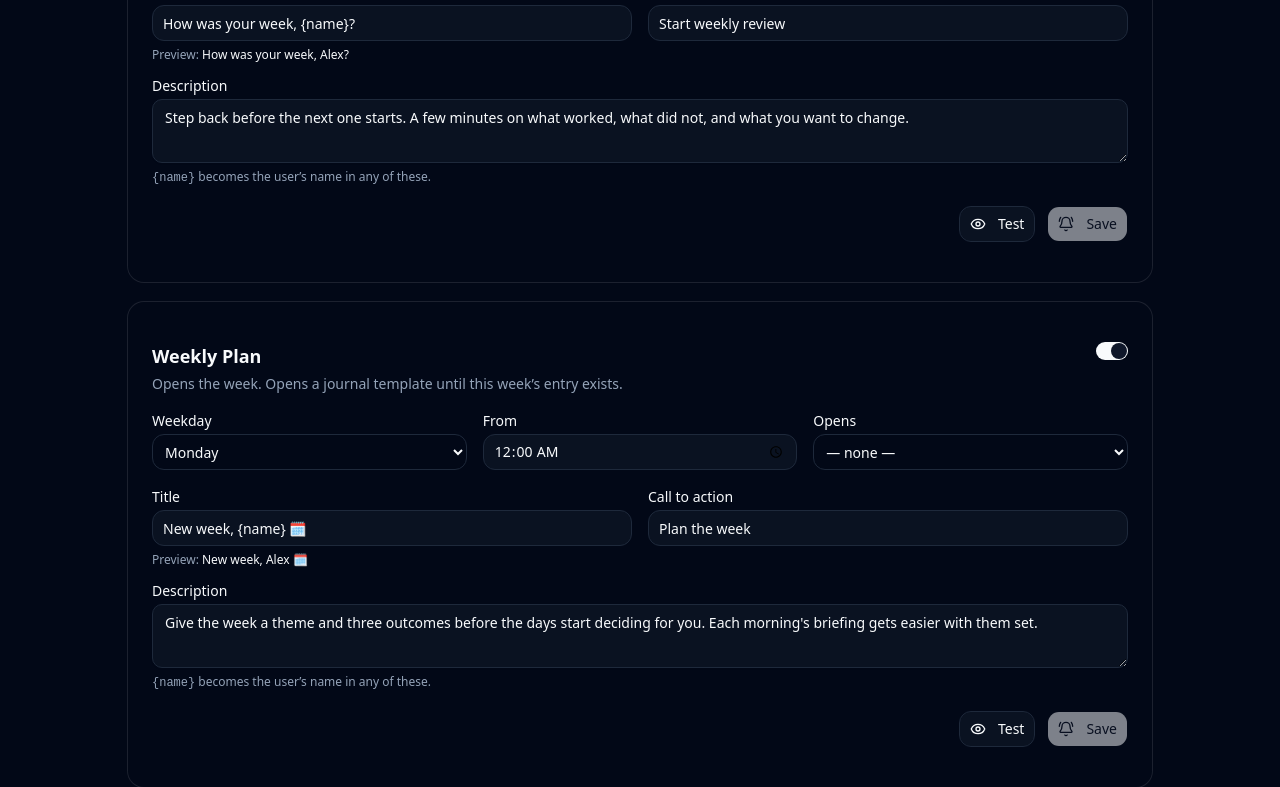
it: RitualsHub preview › opens the real prompt for the ritual whose Test button was pressed
The width and height of the screenshot is (1280, 787).
(page scrolled)
What coordinates should you click on to do the following:
click the button named "preview"
I would click on:
 (997, 729)
Its box is [959,711,1036,747].
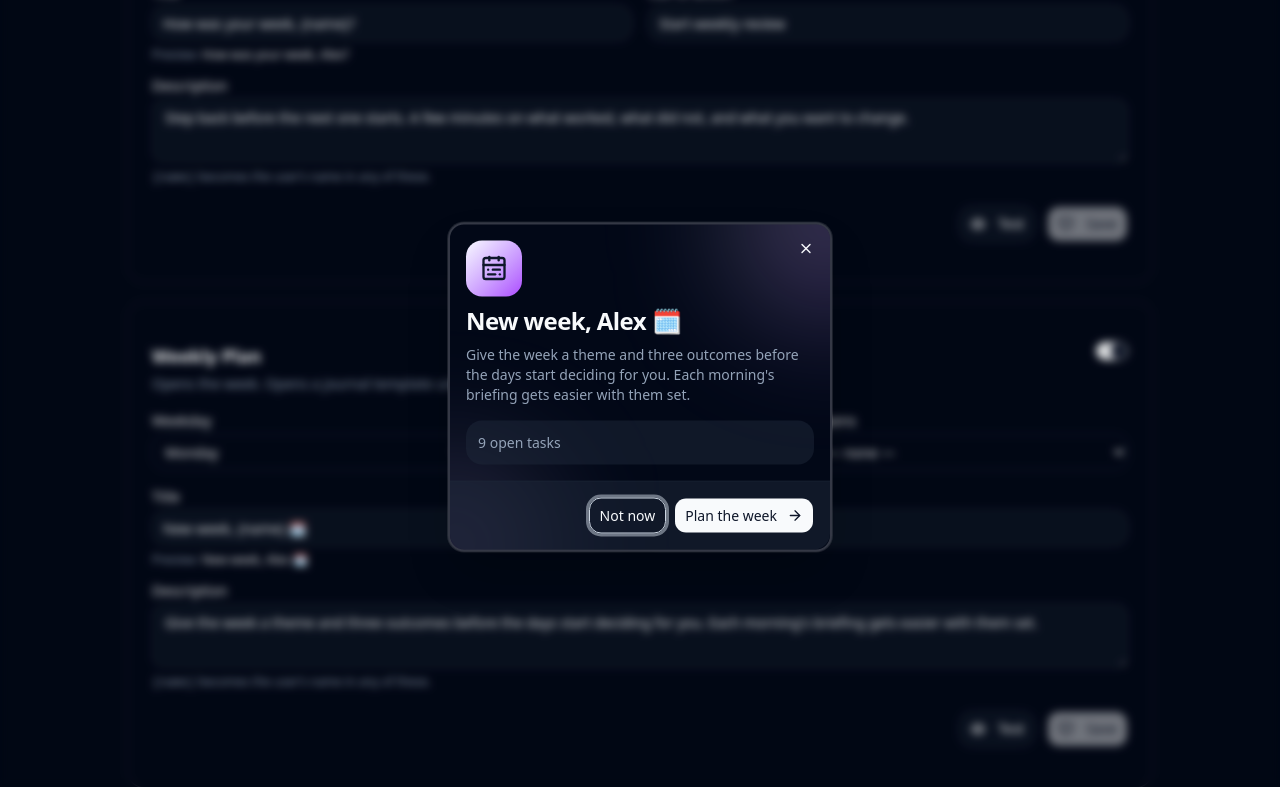
Now the heading "New week, Alex 🗓️" is shown, box [466,304,681,336]
Now the text "9 open tasks" is shown, box [466,420,814,464]
